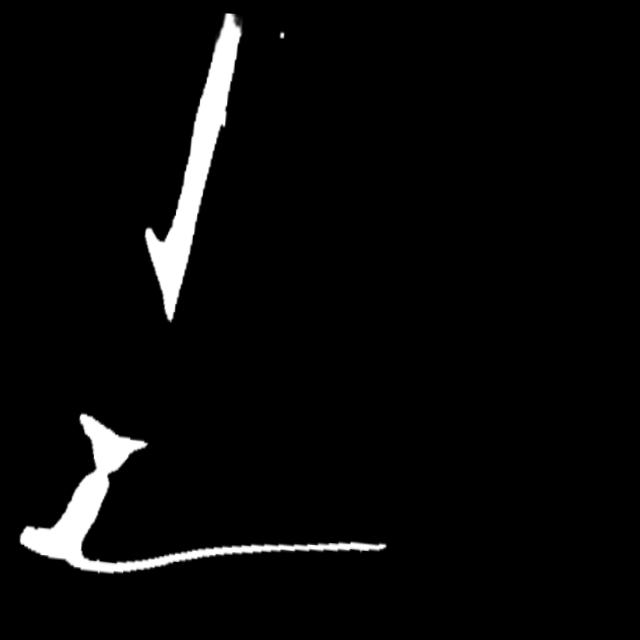sl: (214, 10, 252, 32)
